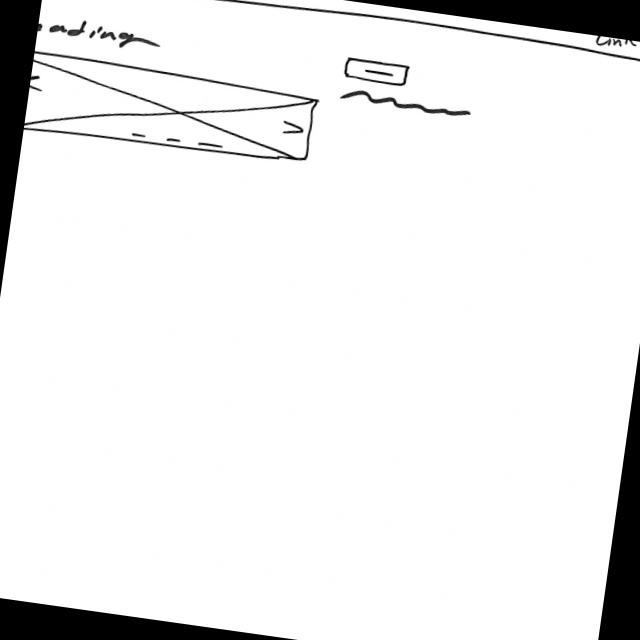container: (45, 1, 640, 68)
icon-button: (343, 56, 411, 90)
image: (25, 49, 322, 172)
label: (38, 14, 163, 55), (593, 36, 640, 53)
text: (341, 89, 475, 123)
